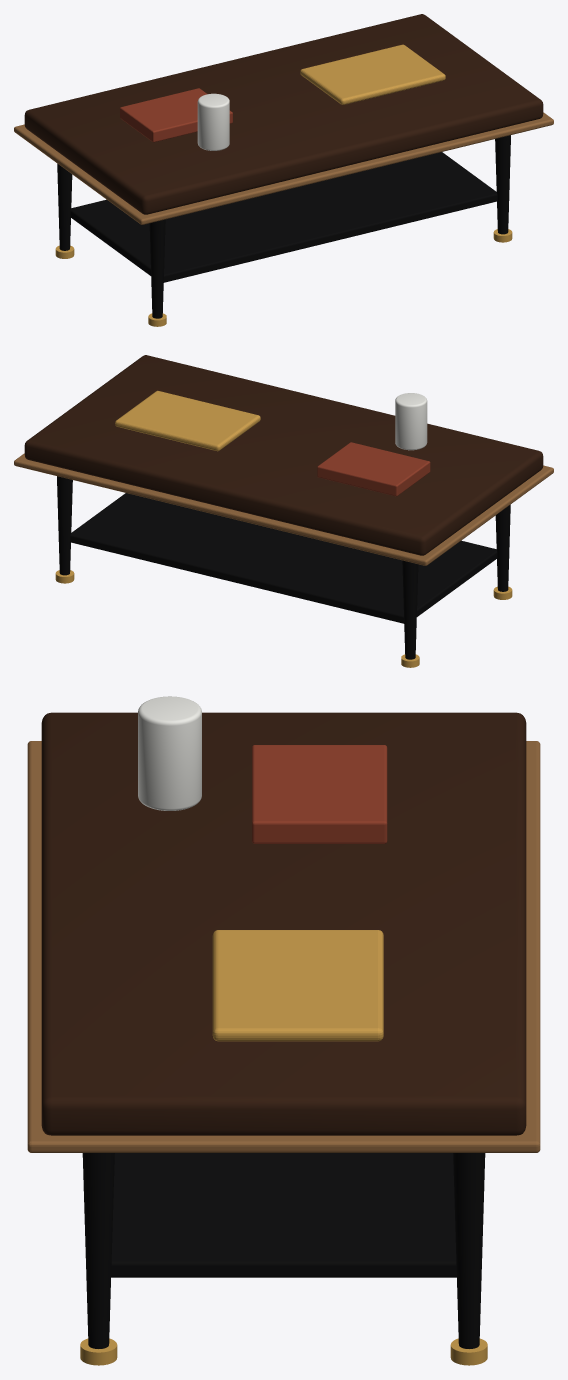
Rendered from modern_coffee_table.obj.
3 views of the same model, one above another, from view 1: azimuth 30°, elevation 25°; view 2: azimuth 150°, elevation 25°; view 3: azimuth 270°, elevation 25° (orthographic). The views are drawn at different scales.
Visible parts, largest first — view 1: top, shelf, top_edge, tray, book, vase_small, leg, leg.002, leg.001; view 2: top, shelf, top_edge, tray, book, vase_small, leg.001, leg.003, leg; view 3: top, shelf, top_edge, tray, book, vase_small, leg.002, leg.003.
Boxes of the visible parts, bbox=[...] form: top: bbox=[24, 14, 543, 214]; shelf: bbox=[70, 152, 497, 282]; top_edge: bbox=[14, 112, 553, 224]; tray: bbox=[300, 44, 445, 104]; book: bbox=[120, 88, 232, 142]; vase_small: bbox=[197, 93, 229, 150]; leg: bbox=[149, 219, 165, 318]; leg.002: bbox=[495, 135, 510, 234]; leg.001: bbox=[57, 163, 72, 250]; top: bbox=[24, 355, 543, 555]; shelf: bbox=[70, 493, 497, 623]; top_edge: bbox=[14, 453, 553, 565]; tray: bbox=[115, 390, 260, 451]; book: bbox=[317, 442, 430, 496]; vase_small: bbox=[395, 393, 427, 450]; leg.001: bbox=[402, 560, 418, 659]; leg.003: bbox=[57, 476, 72, 575]; leg: bbox=[495, 504, 510, 591]; top: bbox=[41, 712, 526, 1135]; shelf: bbox=[111, 1153, 456, 1277]; top_edge: bbox=[27, 741, 540, 1152]; tray: bbox=[212, 930, 383, 1041]; book: bbox=[252, 745, 387, 843]; vase_small: bbox=[138, 696, 201, 810]; leg.002: bbox=[82, 1153, 114, 1348]; leg.003: bbox=[453, 1153, 485, 1348].
Bounding box in the file's own units: 1.34 × 0.595 × 0.72.
